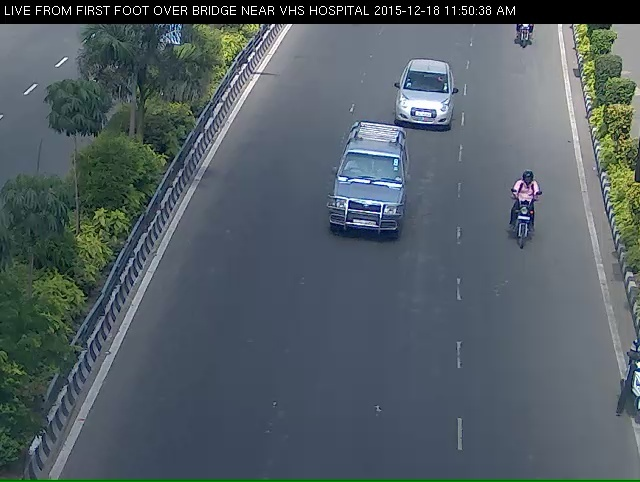Car: (326, 131, 398, 260), (393, 67, 448, 141)
Person: (504, 187, 546, 264)
